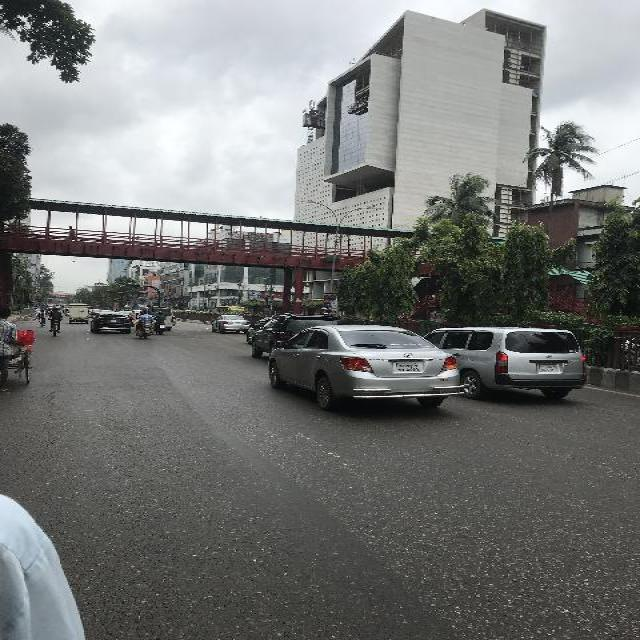10: (133, 322, 150, 340), (150, 321, 166, 335)
11: (67, 302, 88, 324)
13: (46, 306, 53, 316)
5: (266, 322, 466, 410), (466, 325, 585, 401), (88, 311, 132, 335), (210, 314, 250, 334), (90, 308, 98, 316)
Motorcycle: (47, 318, 62, 338), (38, 309, 46, 327)
